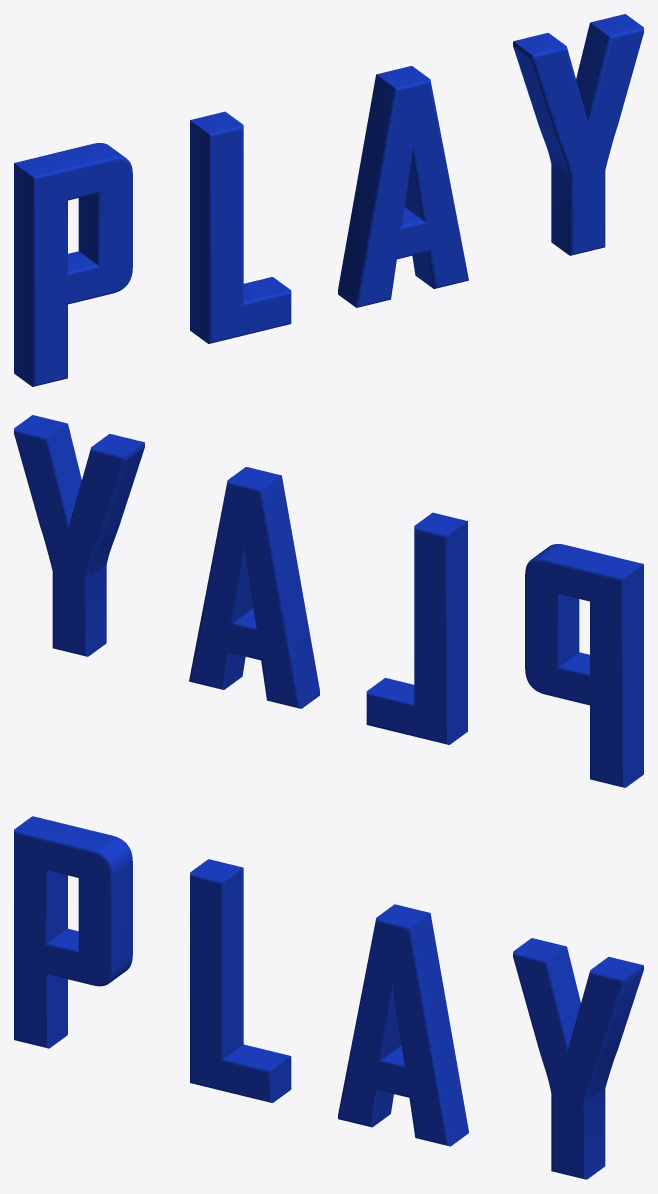
File: play.obj
3 renders of one model, top to bottom at view 1: azimuth 30°, elevation 25°; view 2: azimuth 150°, elevation 25°; view 3: azimuth 330°, elevation 25°, orthographic.
Parts seen in each view (by area): view 1: Text; view 2: Text; view 3: Text.
Part boxes in pixels (box(x1,y1,x2,y2)): Text: box(14, 14, 643, 386); Text: box(14, 415, 643, 787); Text: box(14, 816, 643, 1179).
Bounding box in the file's own units: 2 × 0.6591 × 0.12.
